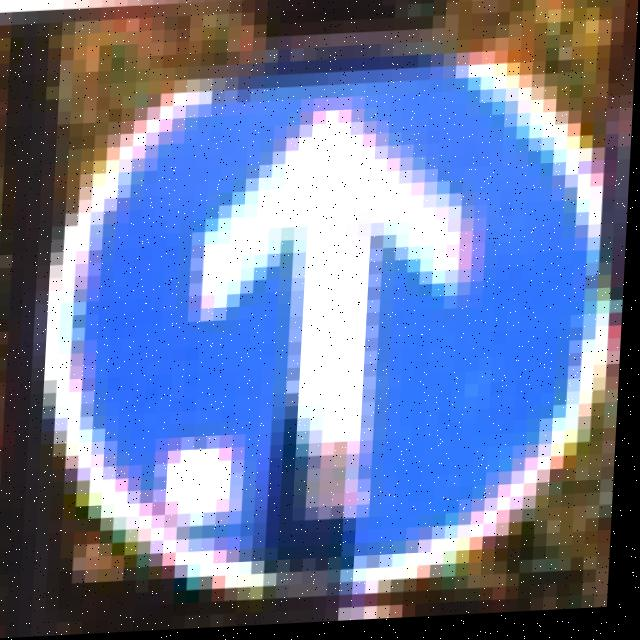compulsory_ahead: (55, 26, 619, 593)
